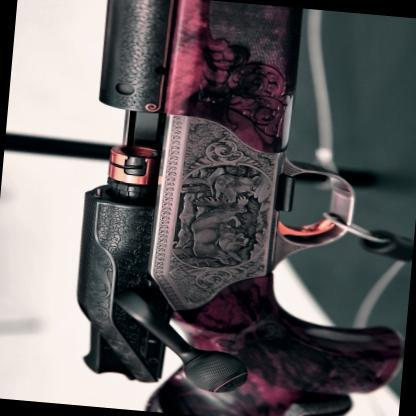rifle: (39, 0, 416, 416)
